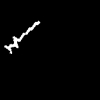double_crochet: (5, 21, 39, 53)
